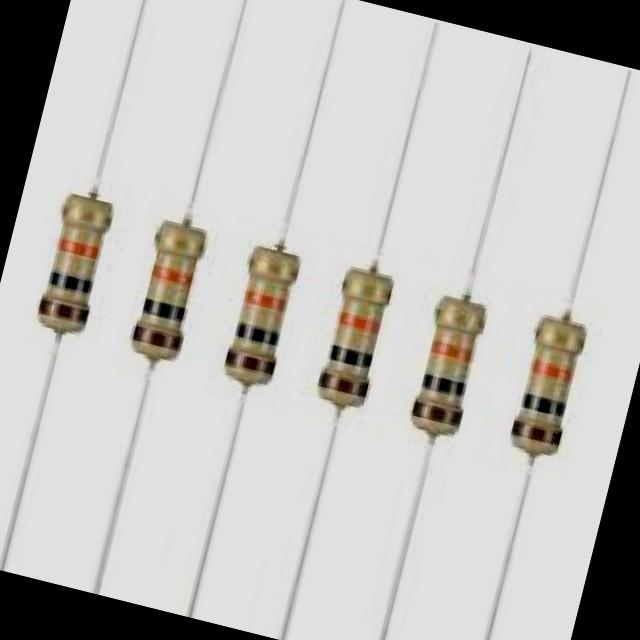Resistor: (460, 272, 624, 511), (364, 231, 522, 478), (189, 190, 336, 432), (282, 211, 424, 453), (1, 170, 150, 366), (114, 170, 244, 387)
